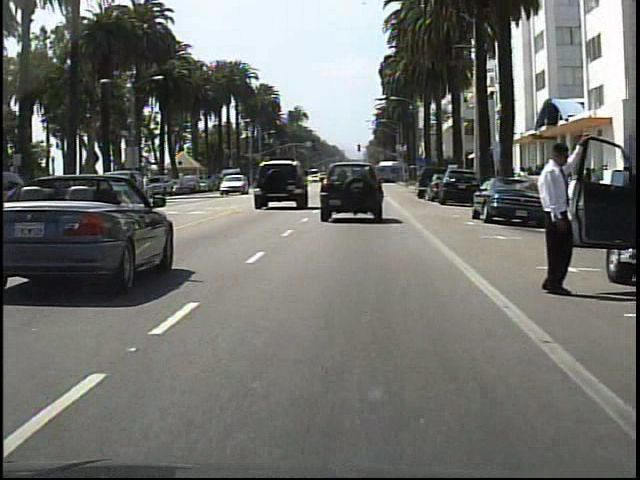person: (524, 123, 590, 307)
